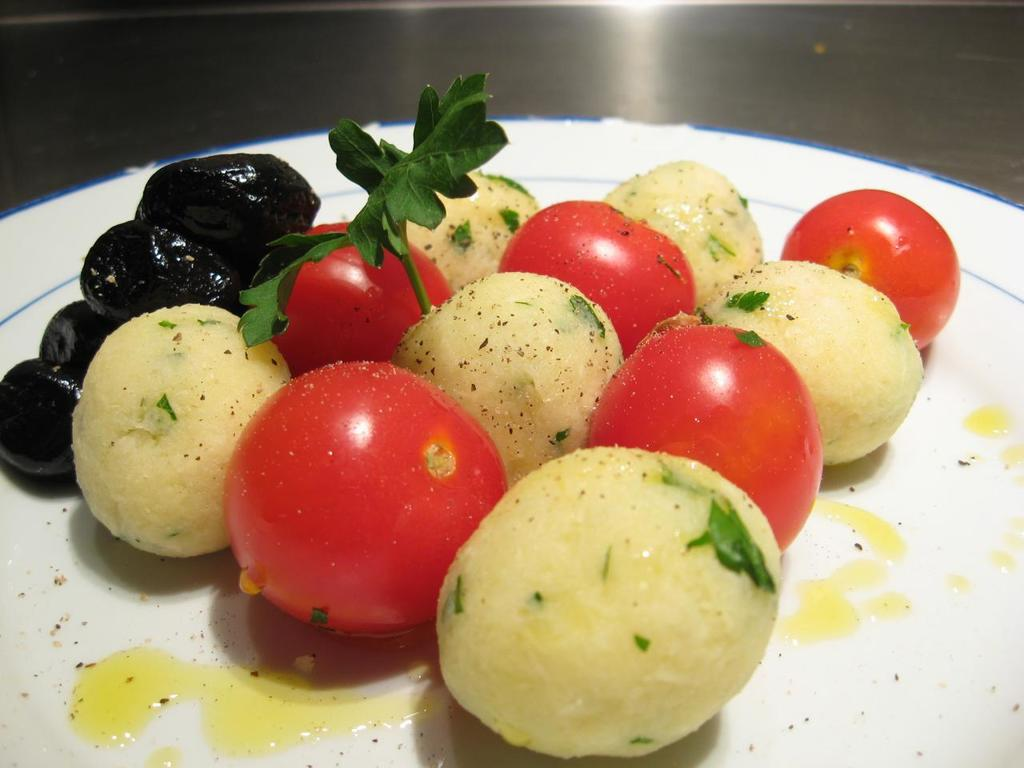Tomato: (223, 359, 509, 634), (587, 326, 825, 549), (497, 201, 696, 360), (269, 222, 455, 377), (783, 189, 959, 348)
